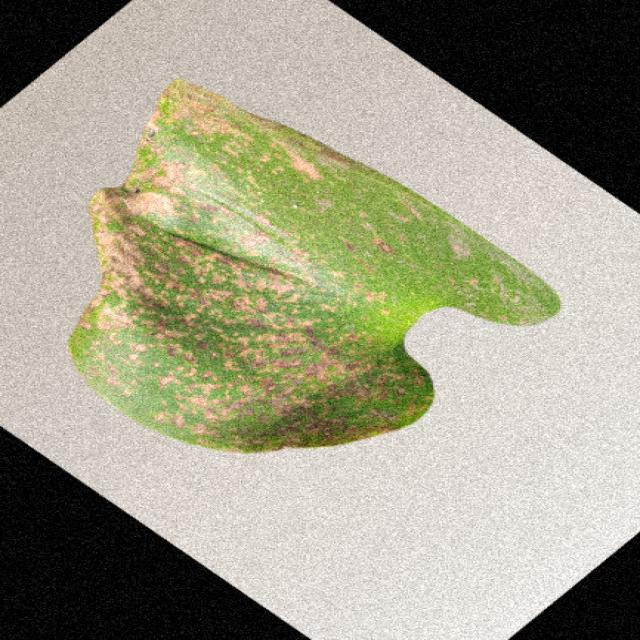daun berpenyakit bercak: (68, 79, 560, 452)
